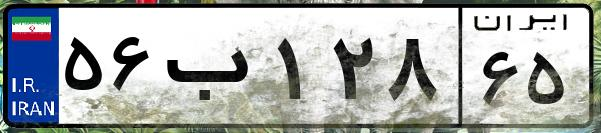1: (270, 28, 330, 110)
2: (330, 28, 385, 110)
5: (57, 26, 110, 100), (525, 38, 570, 115)
6: (475, 38, 525, 113), (110, 28, 158, 98)
8: (385, 28, 445, 110)
ب: (158, 20, 270, 120)
